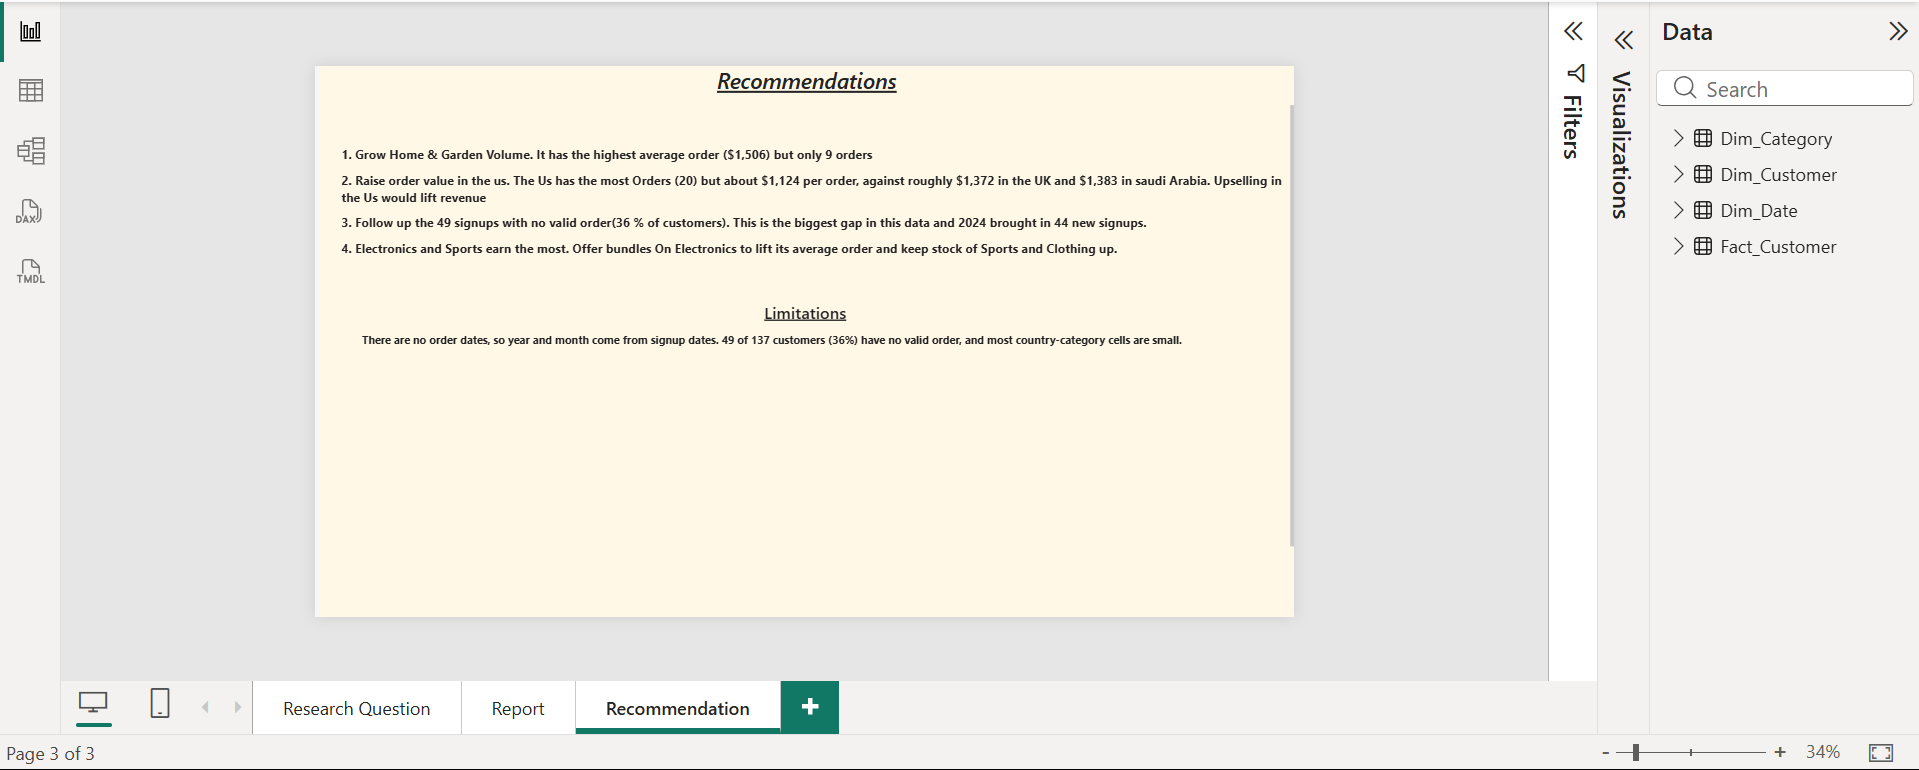

The dashboard page shown, as its layout file describes it:
{"tool":"powerbi","page":{"name":"Recommendation","canvas":[1920,1080],"ordinal":2},"visuals":[{"type":"textbox","title":"Recommendations","box":[8.9,0,1911.1,1080.8],"z":0}]}

Visuals, with their boxes on the page's 1920x1080 design canvas (x1, y1, x2, y2). These are canvas units, not pixel positions in the 1919x770 screenshot, which may show the page scaled, cropped or inside an application window:
"Recommendations" textbox: <box>9,0,1920,1081</box>
